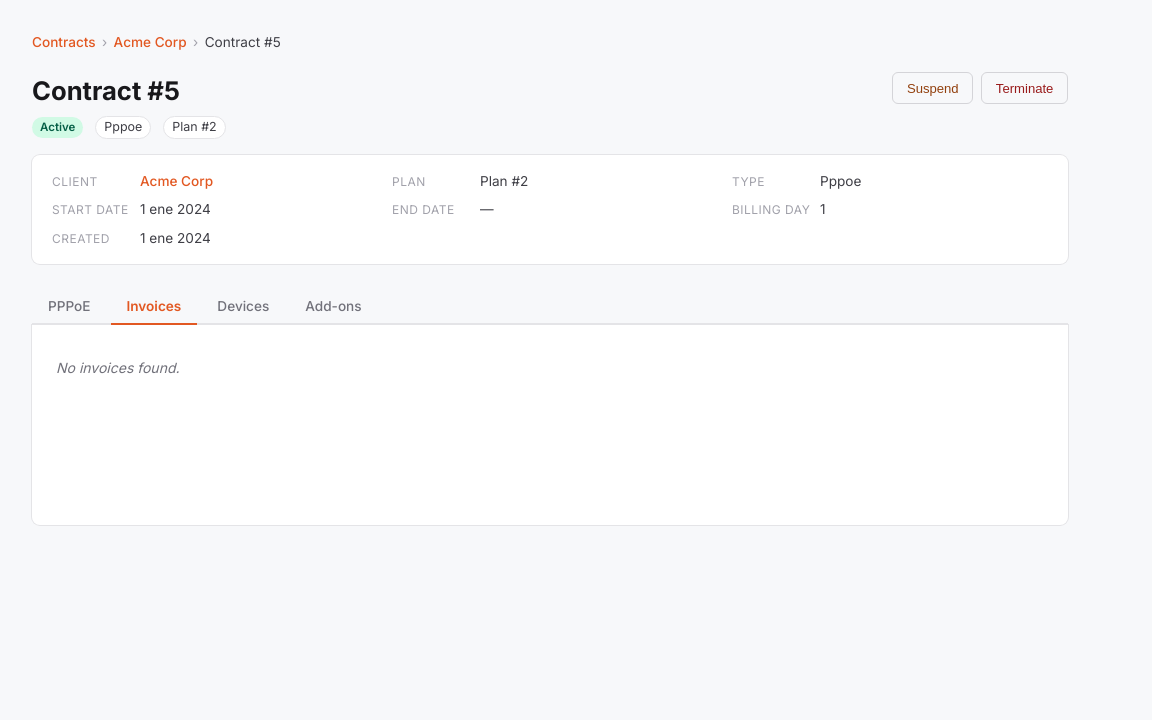
Scenario: ContractDetail — PPPoE credentials › cancelling the confirm dialog does not regenerate
expect the heading "Contract #5" is shown: met, box [32, 75, 180, 106]
Click the button "PPPoE": click(69, 307) [32, 288, 106, 326]
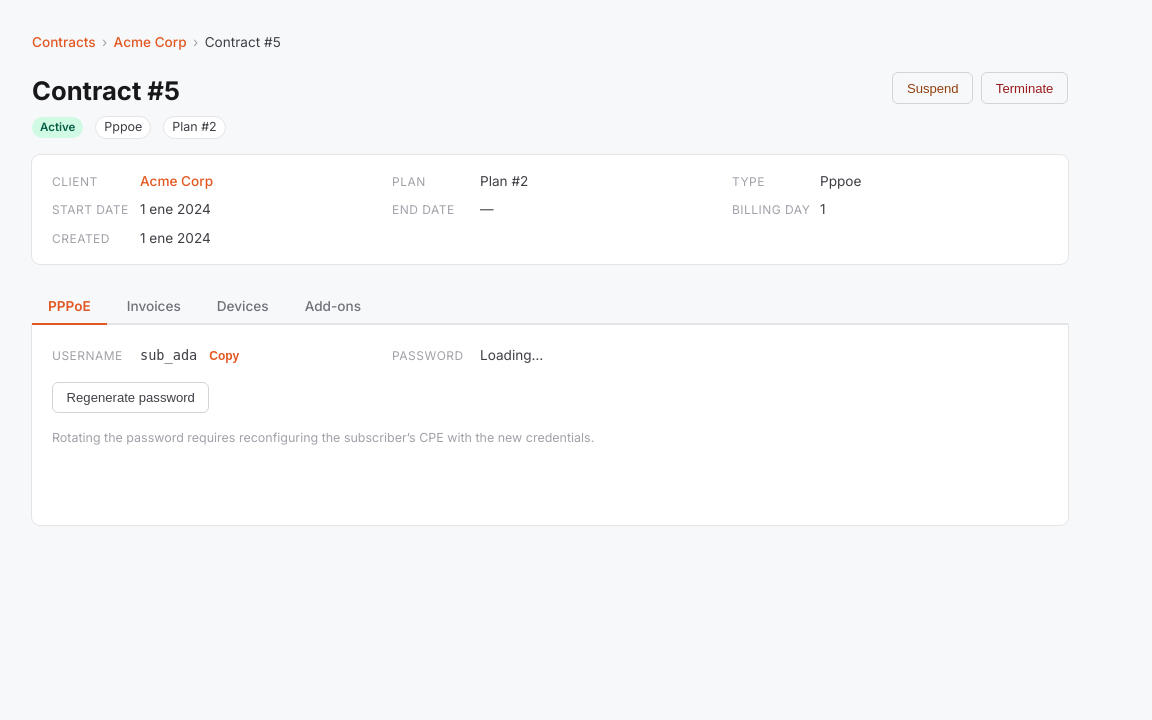
expect the text "sub_ada" is shown: met, box [140, 346, 197, 366]
Click the button "Regenerate password": click(131, 398) [52, 382, 210, 413]
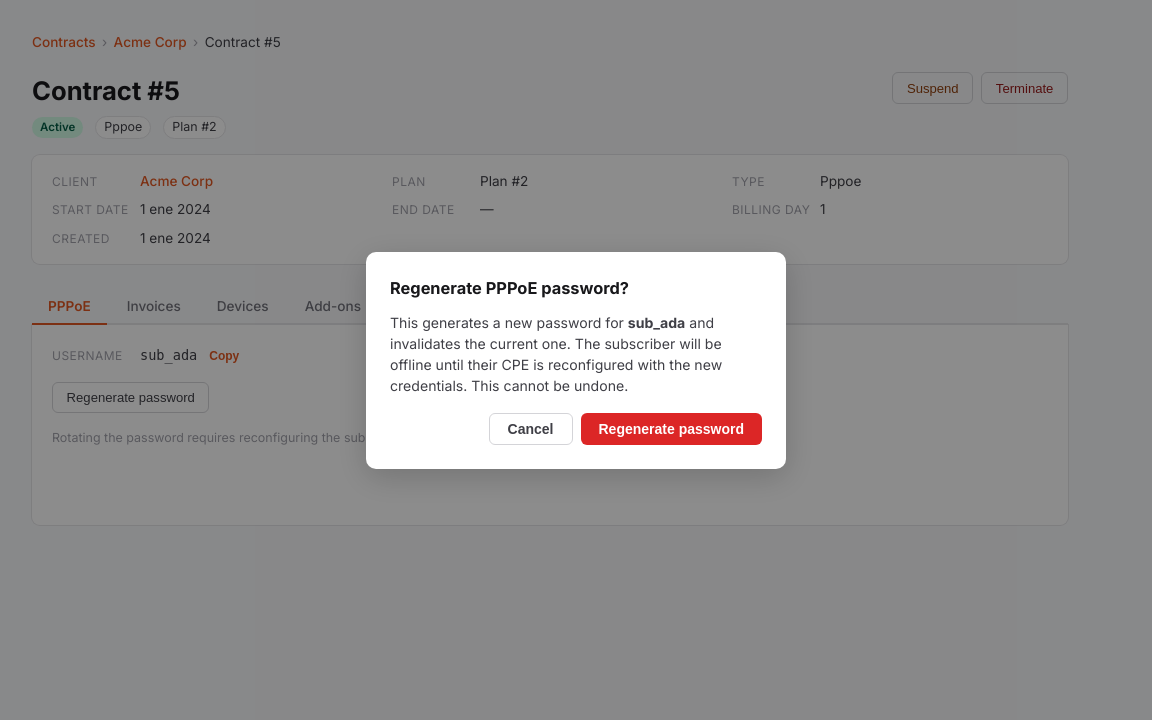
Click the button "Cancel": click(531, 428) [489, 412, 572, 444]
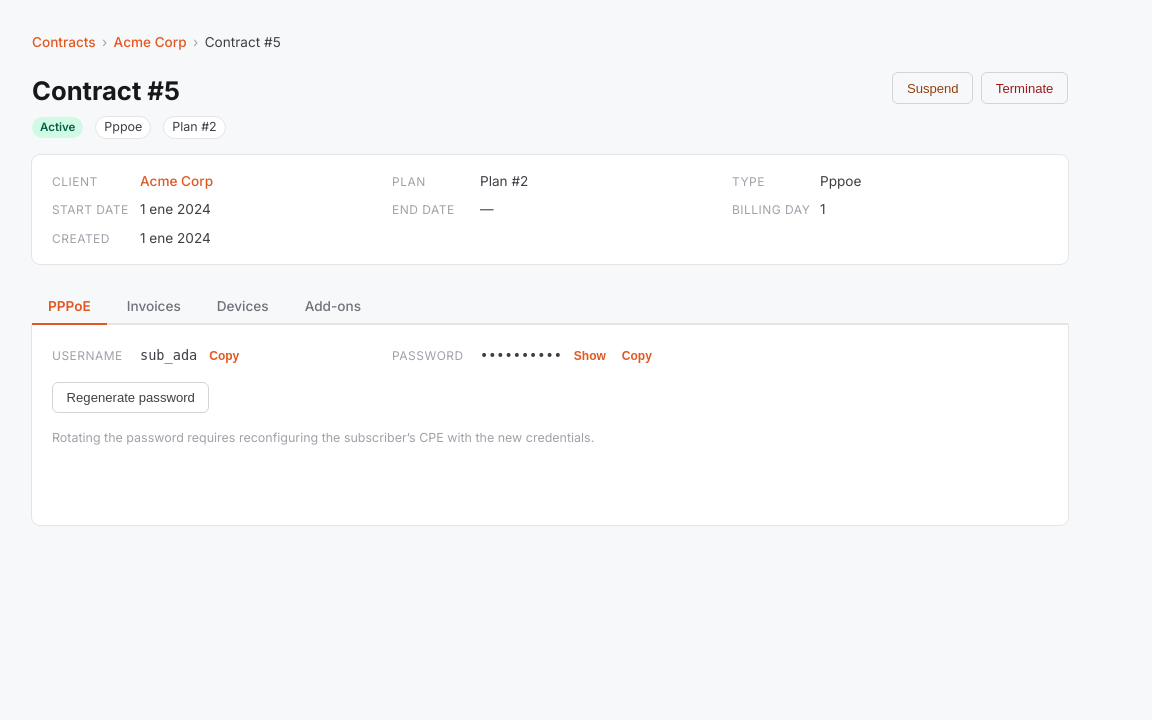
expect the dialog is gone: met
